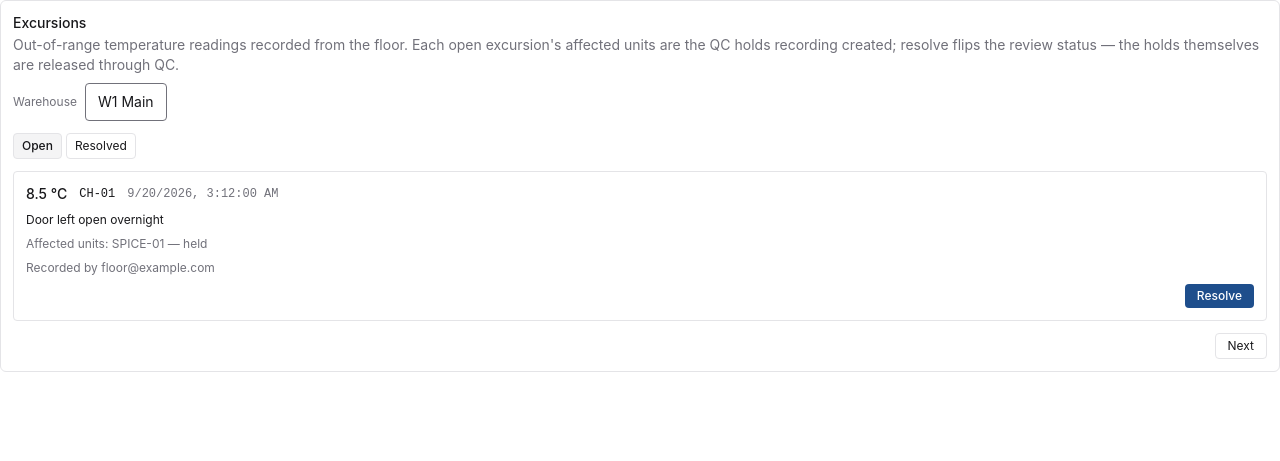
Test: ExcursionQueue: the resolve flow (story 12-7) › a 409 excursion-resolved renders the mapper copy and re-reads the queue
Click the button "Resolve".
click(1219, 296)  # box [1185,284,1254,308]
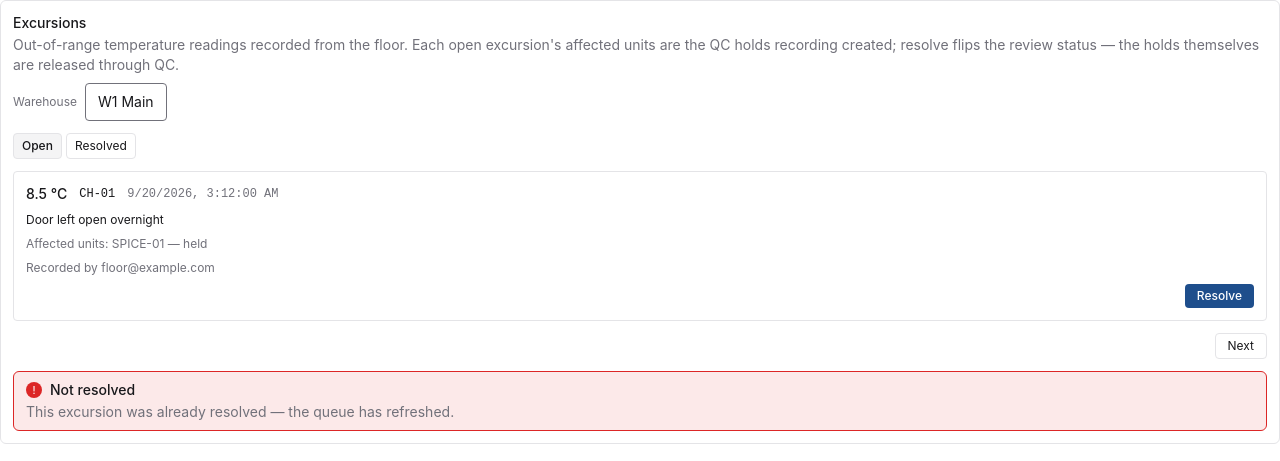
Result: the text "Not resolved" is shown at [50,381,135,398]
Result: the text "This excursion was already resolved — the queue has refreshed." is shown at [26,403,454,420]
